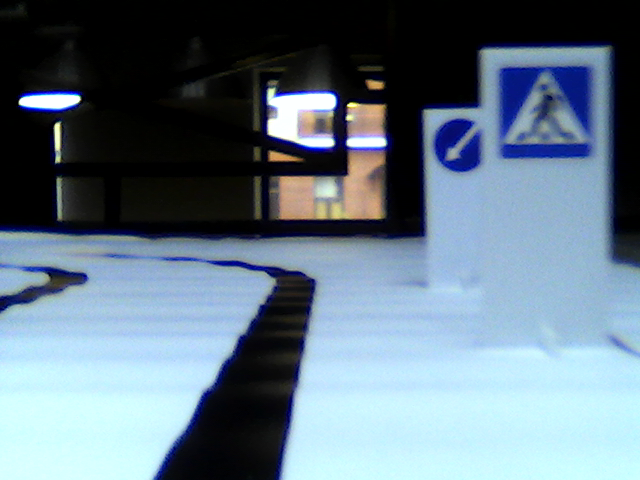pesh: (496, 62, 591, 161)
prep: (434, 115, 484, 170)
